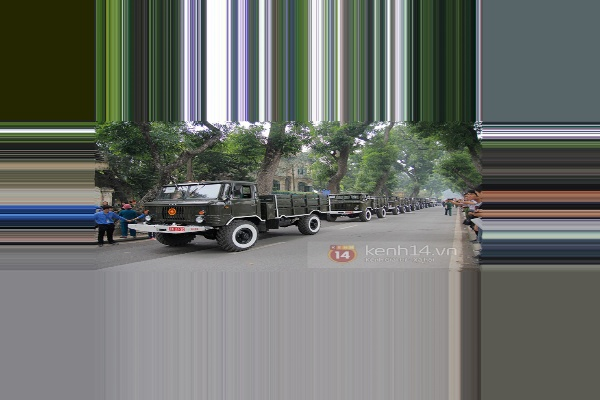plate: (169, 225, 184, 233)
